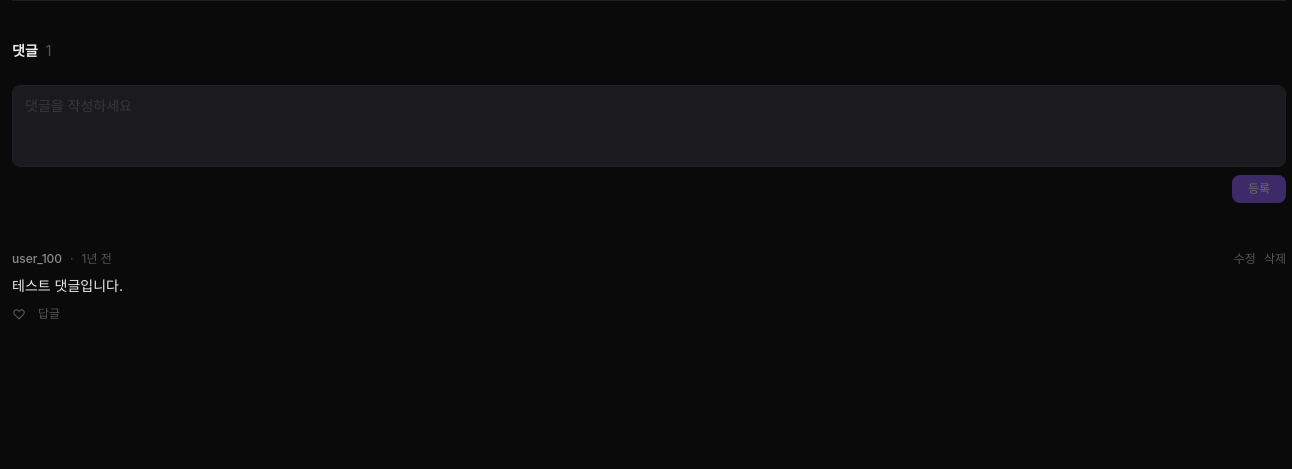
it: CommentItem — 답글 › 답글 버튼 클릭 시 답글 입력폼이 나타난다
This screenshot has width=1292, height=469.
Click the button "답글" at (49, 314), box [38, 306, 60, 322]
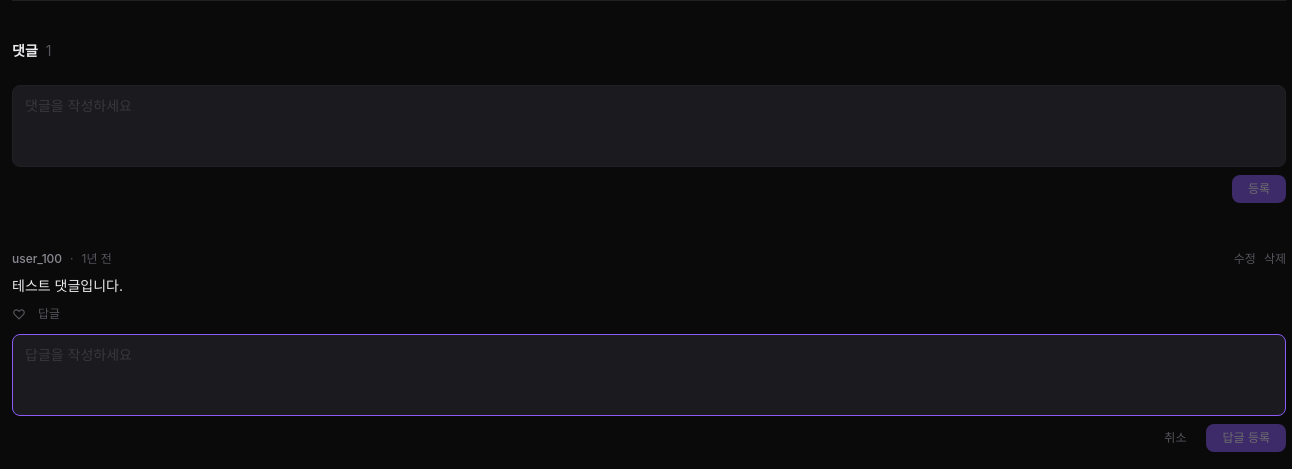
Result: the text box with placeholder "답글을 작성하세요" is shown at [12, 334, 1286, 416]
